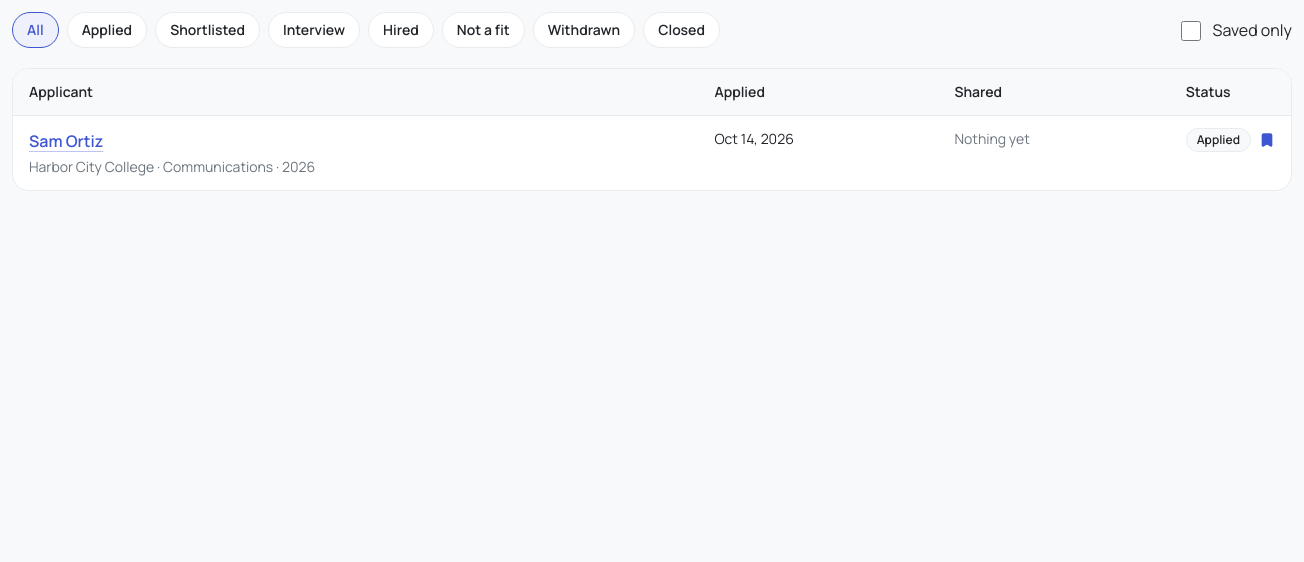
Test: ApplicantTable › drops an applicant from a saved-only list once they're unsaved
Expected: the table named "Applicants" is shown, [13, 69, 1291, 190]
Click the checkbox labelled "Saved only": (1191, 31) [1181, 21, 1201, 41]
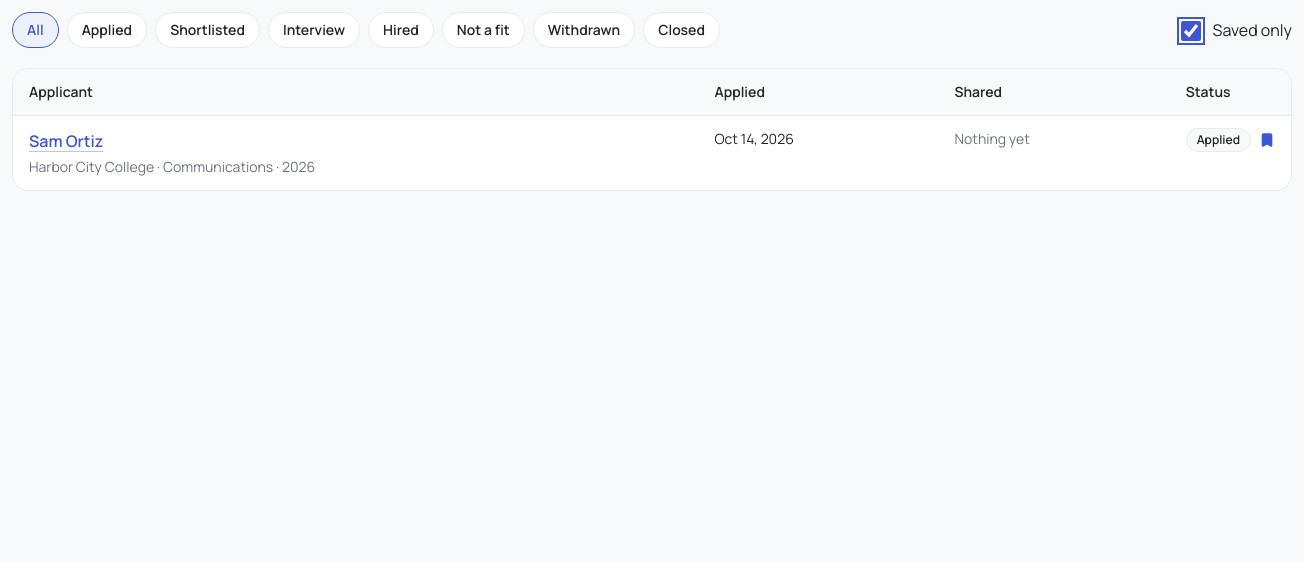
Click the button "Sam Ortiz": (66, 141) [29, 128, 103, 154]
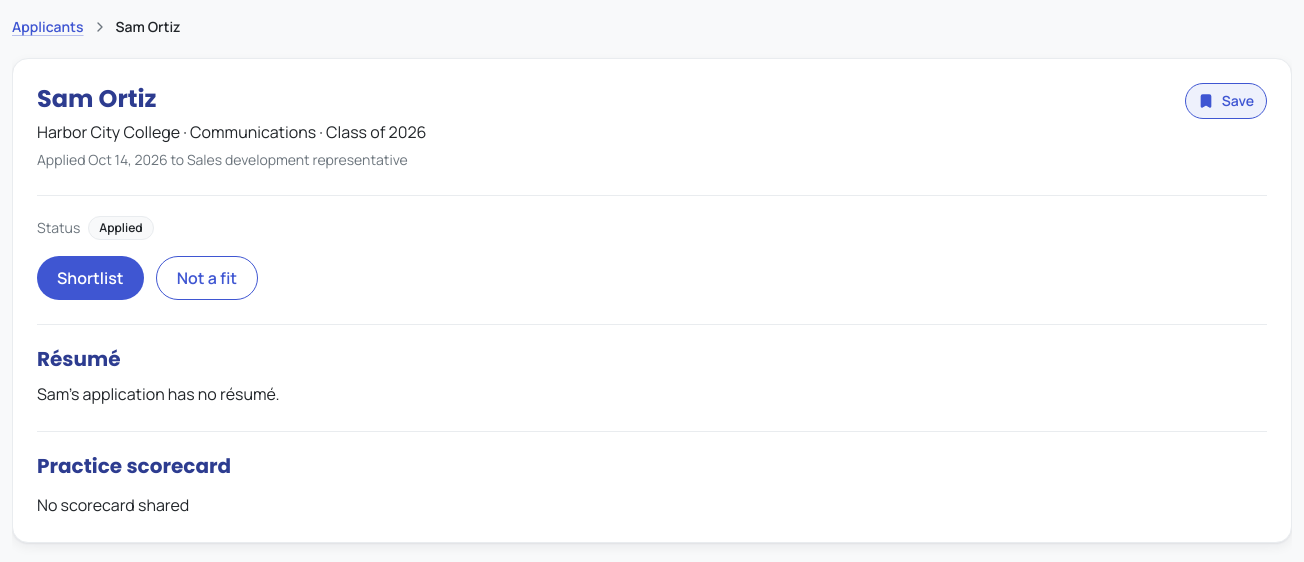
Click the button "Save": (1226, 101) [1185, 83, 1267, 119]
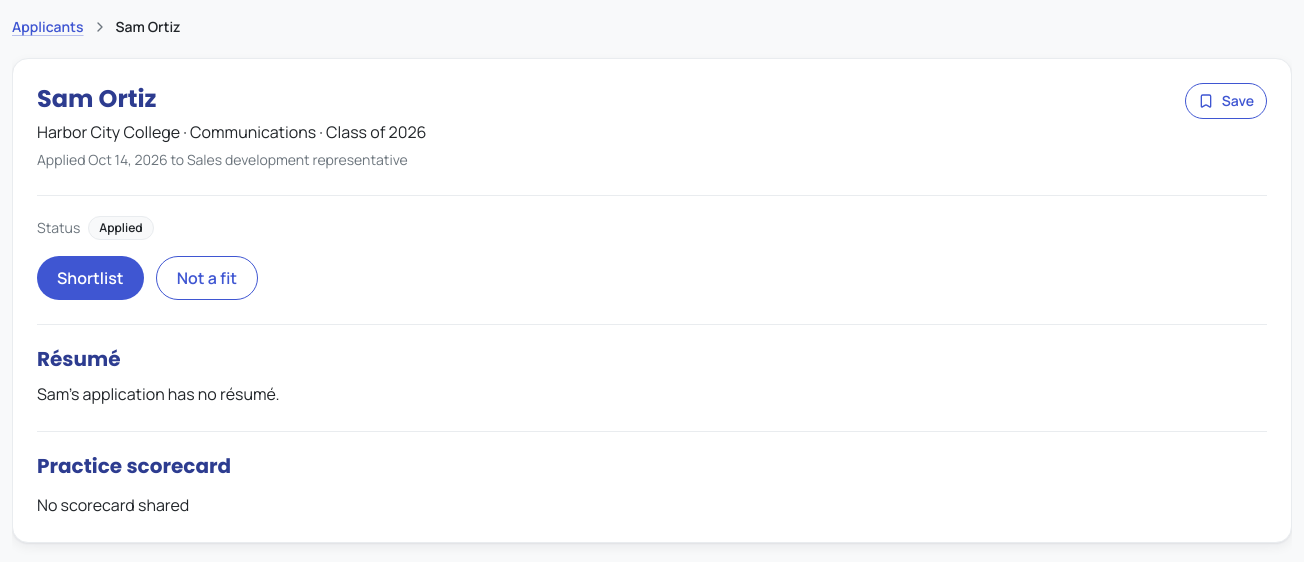
Now the button "Save" is not pressed, box [1185, 83, 1267, 119]
Click the button "Applicants": (48, 27) [12, 12, 84, 42]
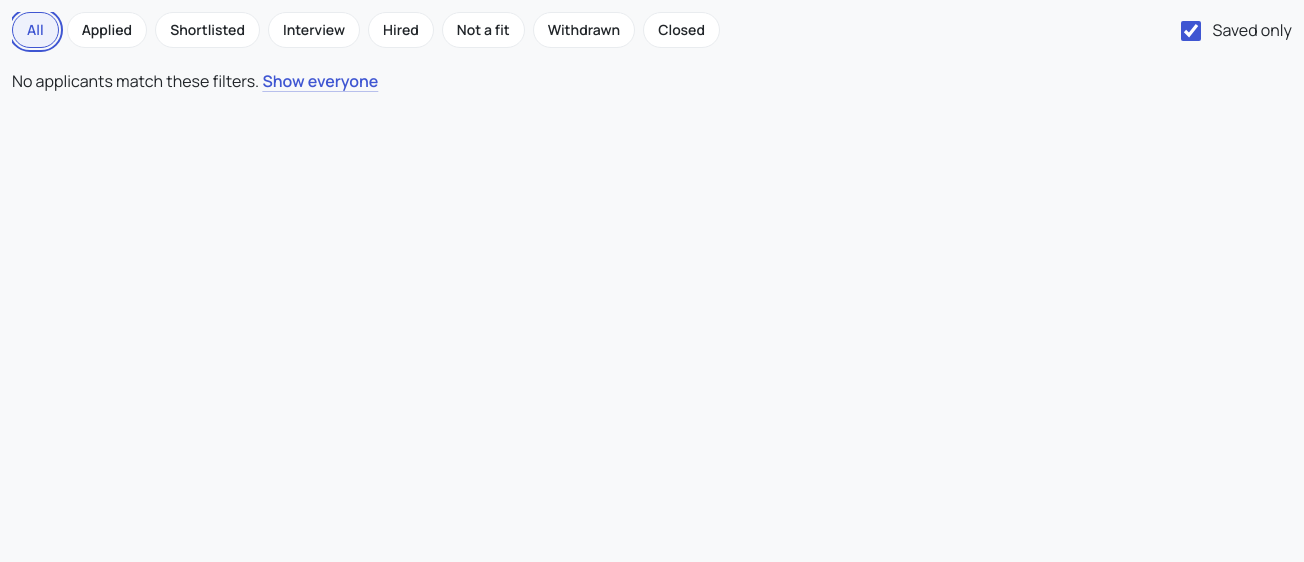
Now the text "No applicants match these filters. Show everyone" is shown, box [12, 68, 378, 94]
